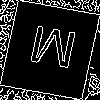M: (24, 25, 80, 79)
